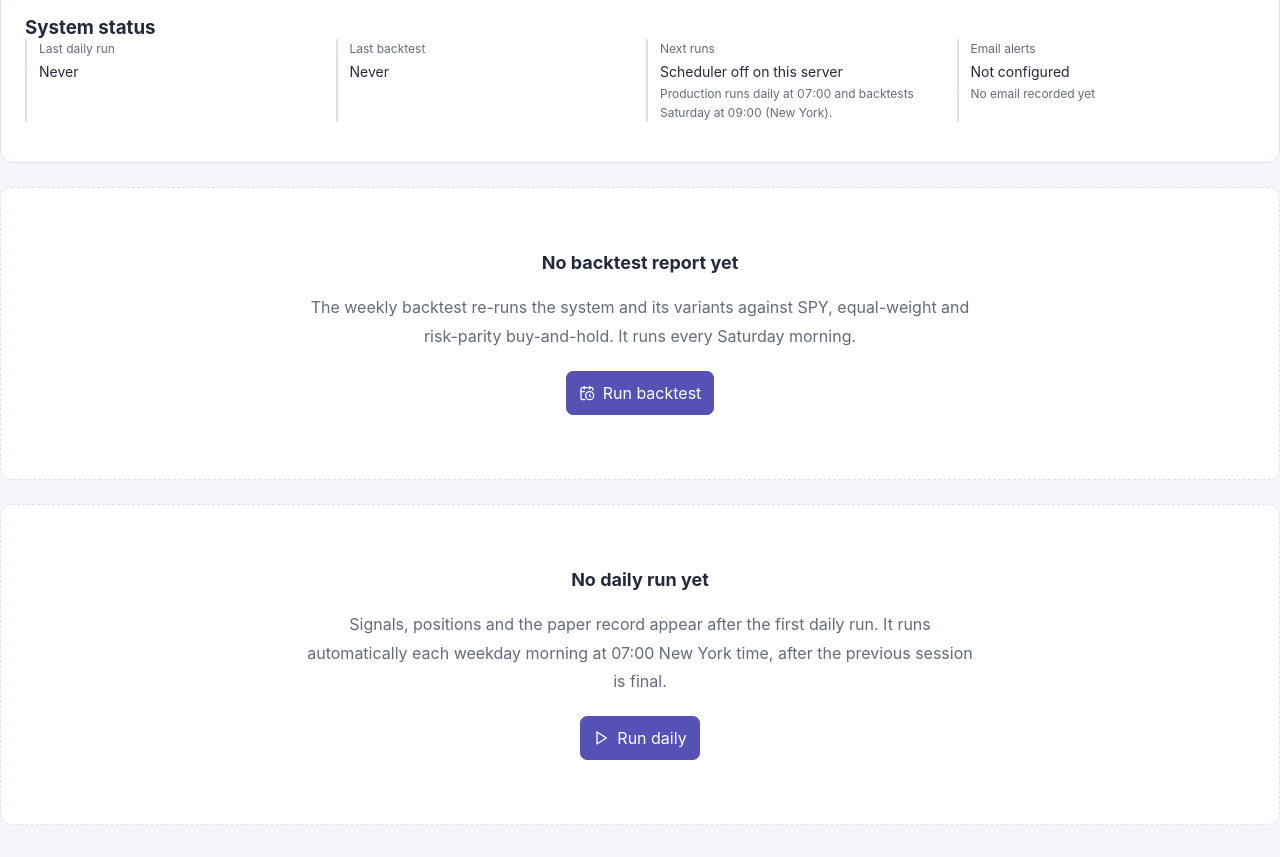
offers the first daily run on an empty system and explains rejected runs
The width and height of the screenshot is (1280, 857).
(page scrolled)
Expected: the heading "No daily run yet" is shown, [571,569,709,590]
Expected: the heading "No backtest report yet" is shown, [542,252,738,273]
Click the button "Run daily" at (640,738), box [580,716,700,760]
(page scrolled)
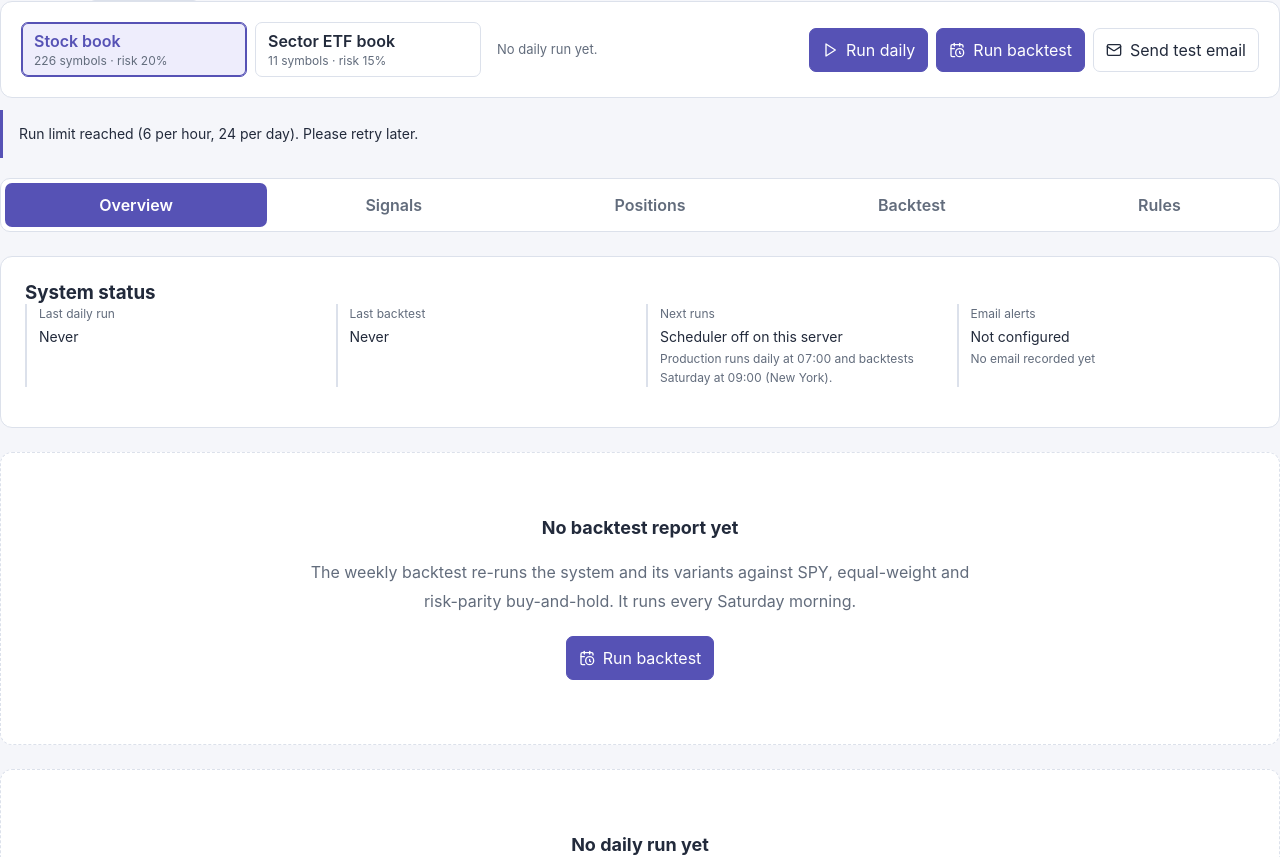
Result: the message shows "Run limit reached (6 per hour, 24 per day)" at [19,125,418,142]
Click the button "Run backtest" in the row of "No daily run yet." at (1011,50), box [936,28,1085,72]
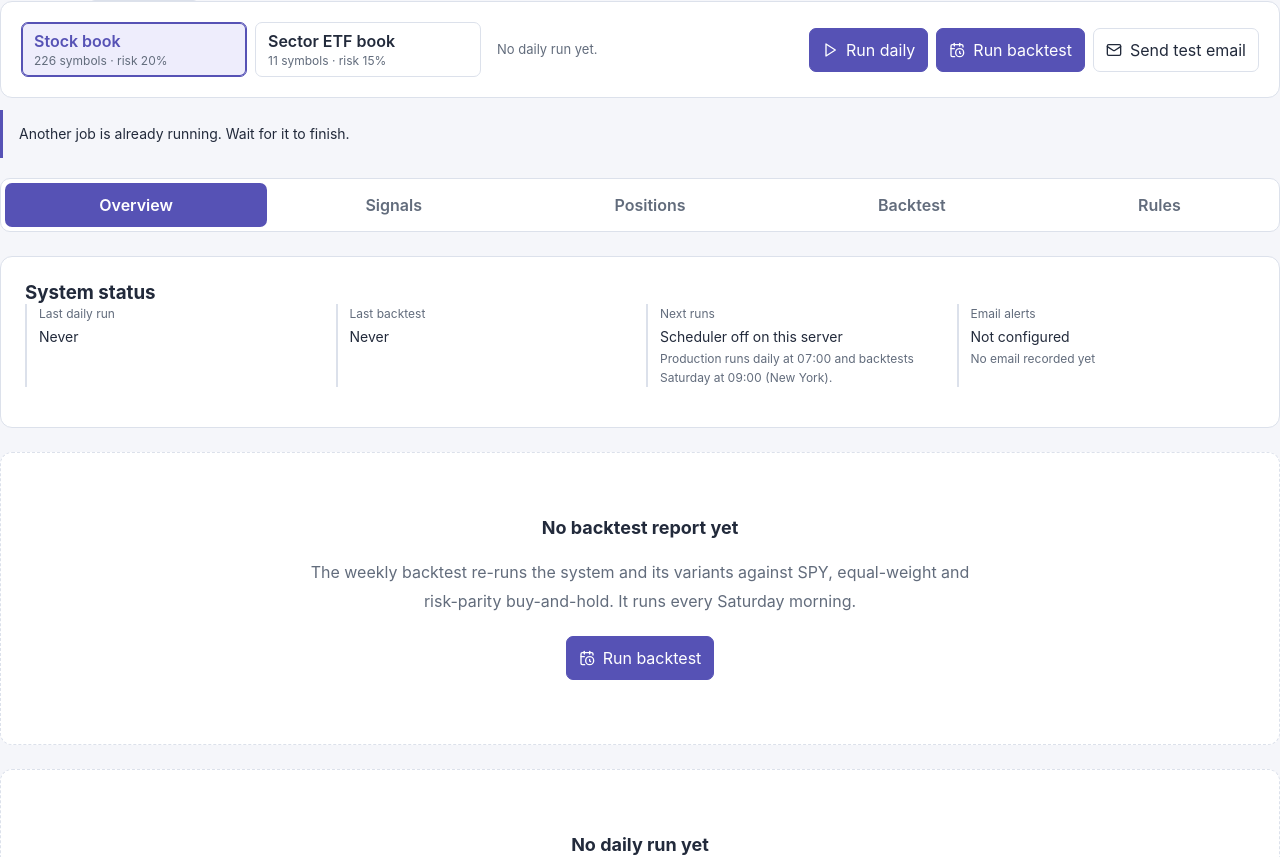
Result: the message shows "Another job is already running" at [19,125,350,142]
Click the button "Run daily" at (869,50), box [809,28,928,72]
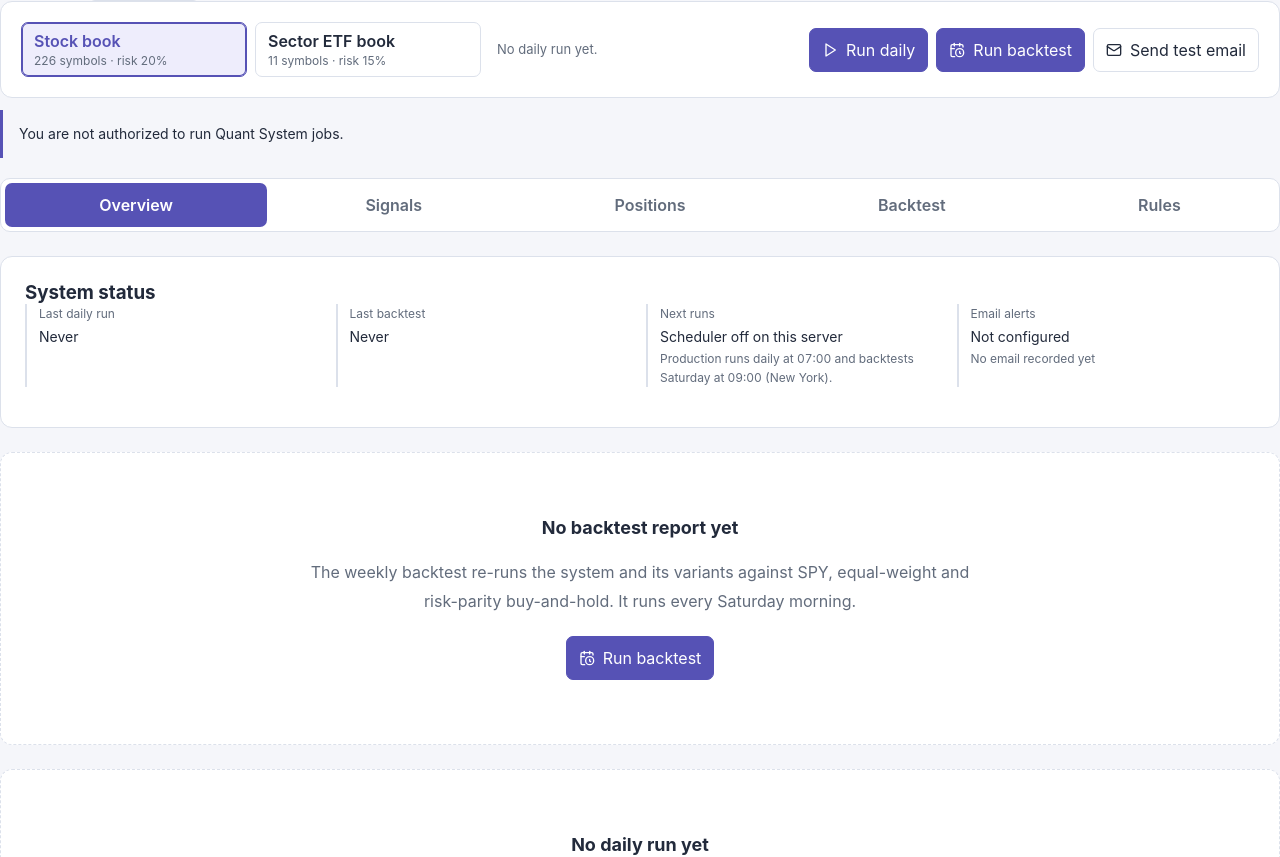
Result: the message shows "You are not authorized" at [19,125,344,142]
Click the tab "Positions" at (650,205), box [520,183,780,227]
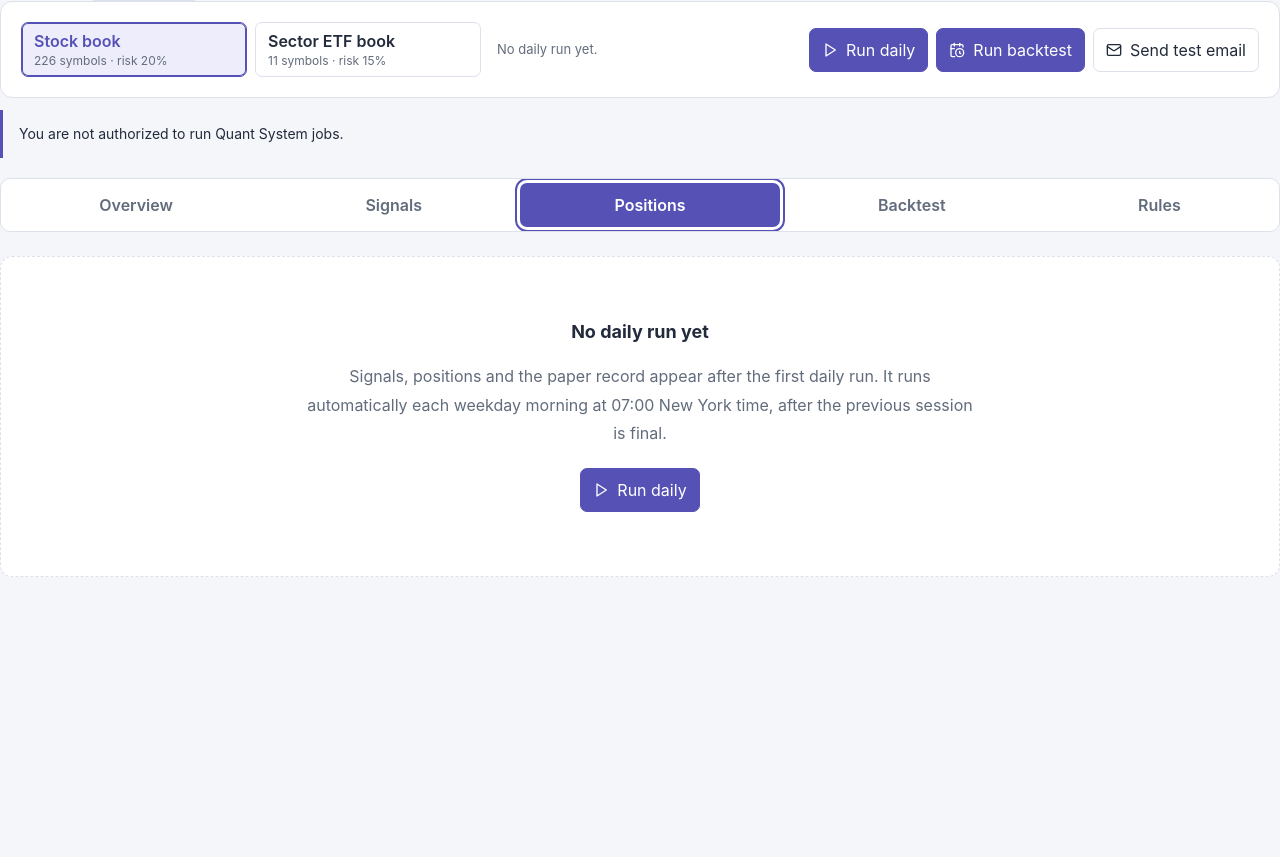
Expected: the heading "No daily run yet" is shown, [571,321,709,342]
Click the tab "Backtest" at (912,205), box [784,183,1040,227]
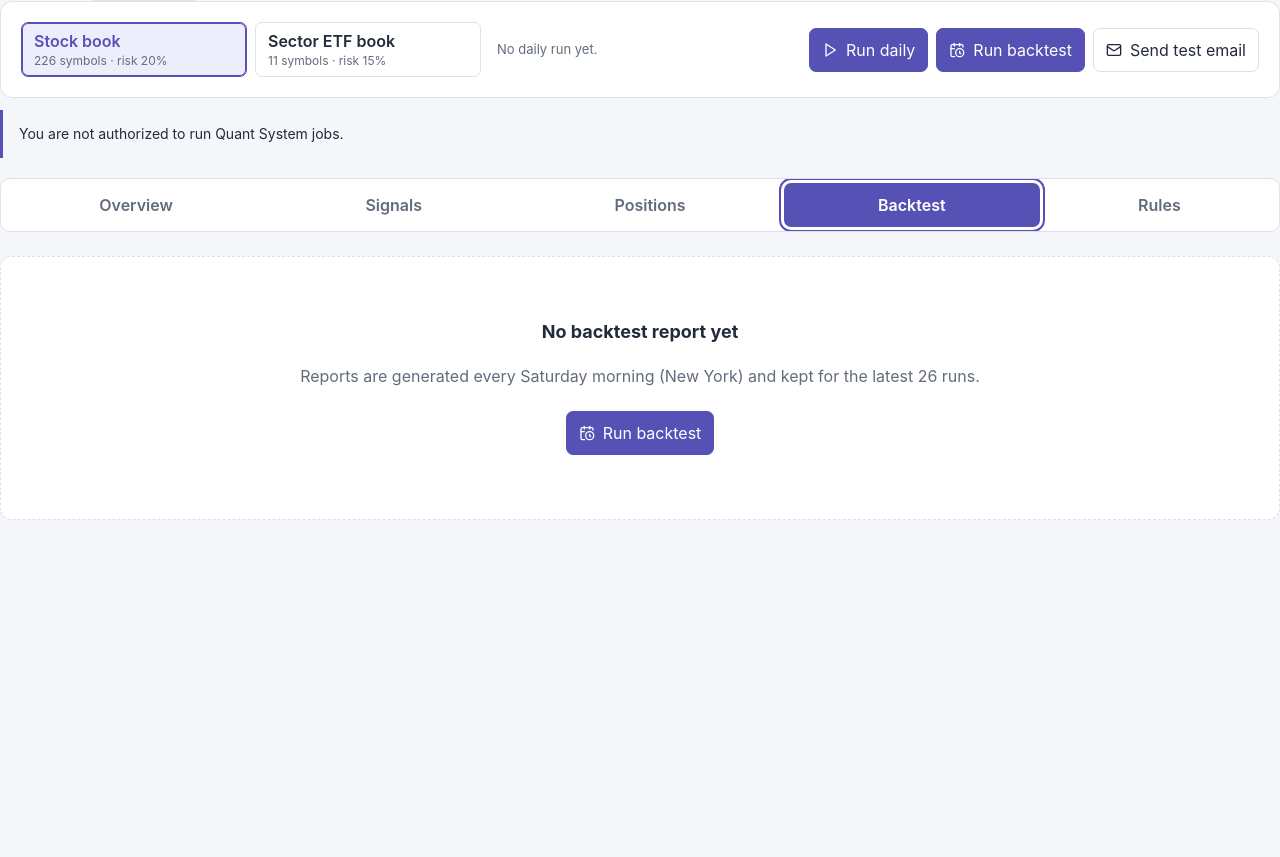
Result: the heading "No backtest report yet" is shown at [542,321,738,342]
